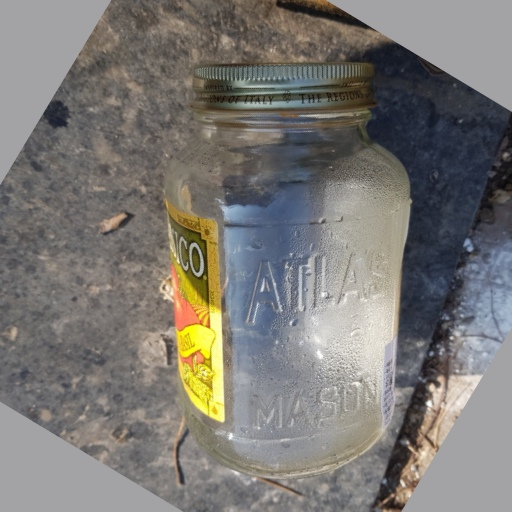Glass_5: (161, 51, 411, 472)
